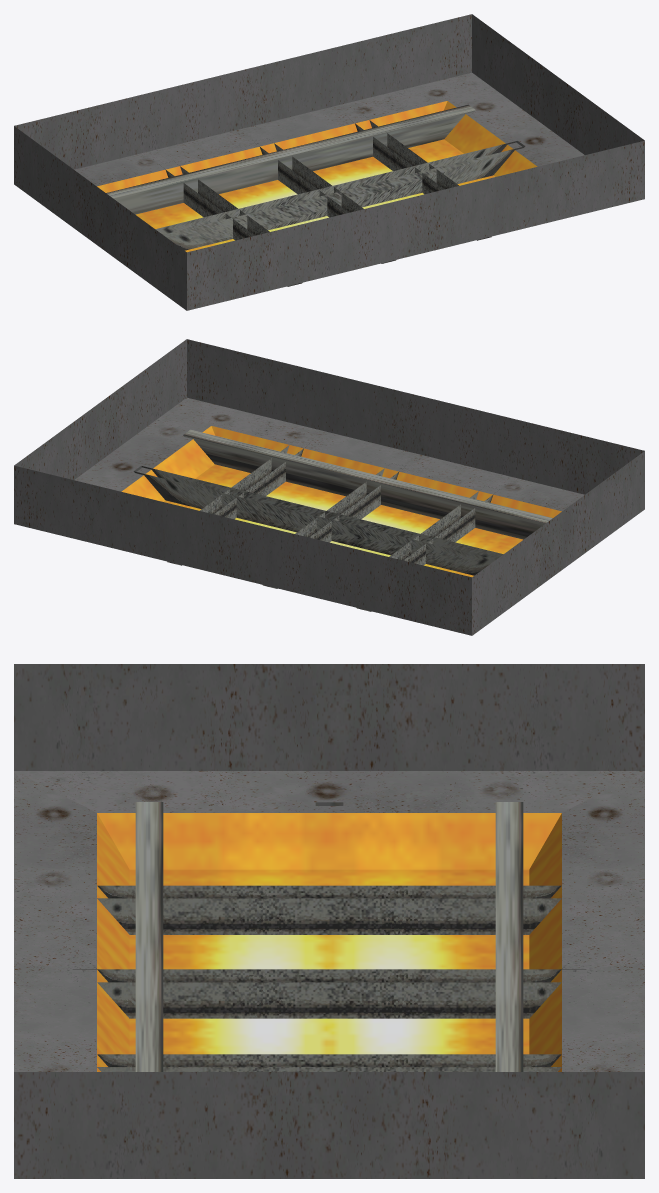
File: Ob_LampCeiling_RC.fbx
The picture shows the model from 3 angles, top to bottom: view 1: azimuth 30°, elevation 25°; view 2: azimuth 150°, elevation 25°; view 3: azimuth 270°, elevation 25°; orthographic projection. The views are drawn at different scales.
Parts seen in each view (by area): view 1: Ob_LampCeiling_RC; view 2: Ob_LampCeiling_RC; view 3: Ob_LampCeiling_RC.
Part boxes in pixels (x1=…): Ob_LampCeiling_RC: x1=14, y1=14, x2=644, y2=310; Ob_LampCeiling_RC: x1=14, y1=339, x2=644, y2=635; Ob_LampCeiling_RC: x1=14, y1=664, x2=644, y2=1178.
Bounding box in the file's own units: 670 × 121 × 438.
